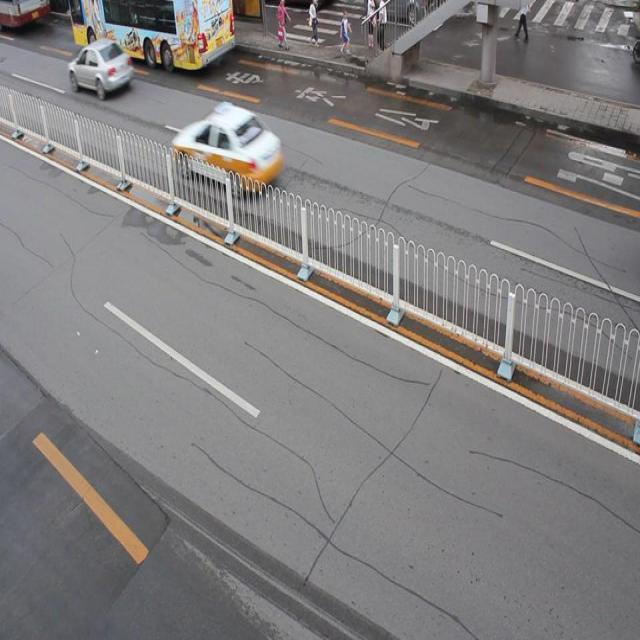car: (173, 106, 283, 196), (69, 38, 134, 96)
van: (69, 1, 234, 71)
